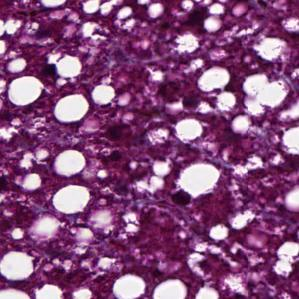steatosis: (174, 162, 221, 200), (53, 87, 91, 124), (53, 184, 90, 220), (2, 245, 34, 283), (54, 144, 86, 179), (8, 73, 45, 103), (174, 113, 206, 142), (200, 62, 231, 91), (113, 273, 147, 299)
